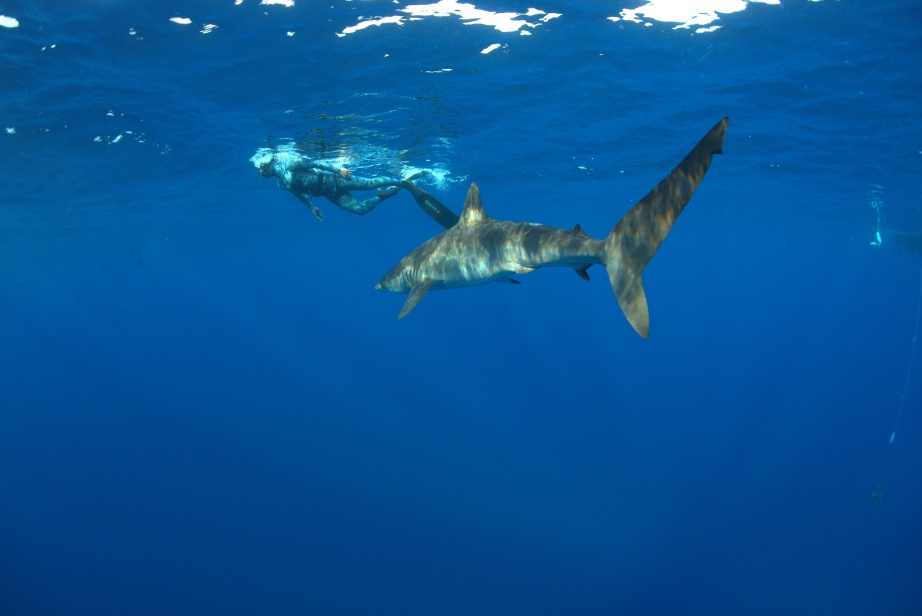Sedoso: (341, 95, 747, 345)
